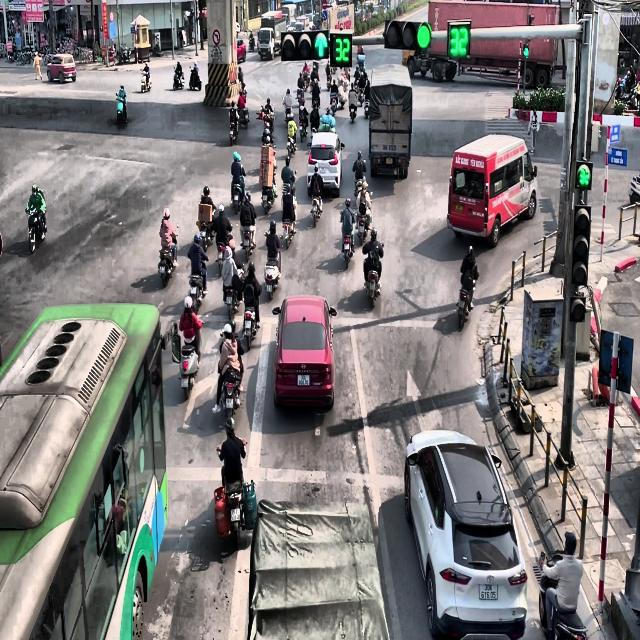lisence_plate: (478, 583, 498, 600), (296, 373, 310, 387), (455, 204, 463, 212), (386, 158, 393, 164), (319, 168, 326, 174)
